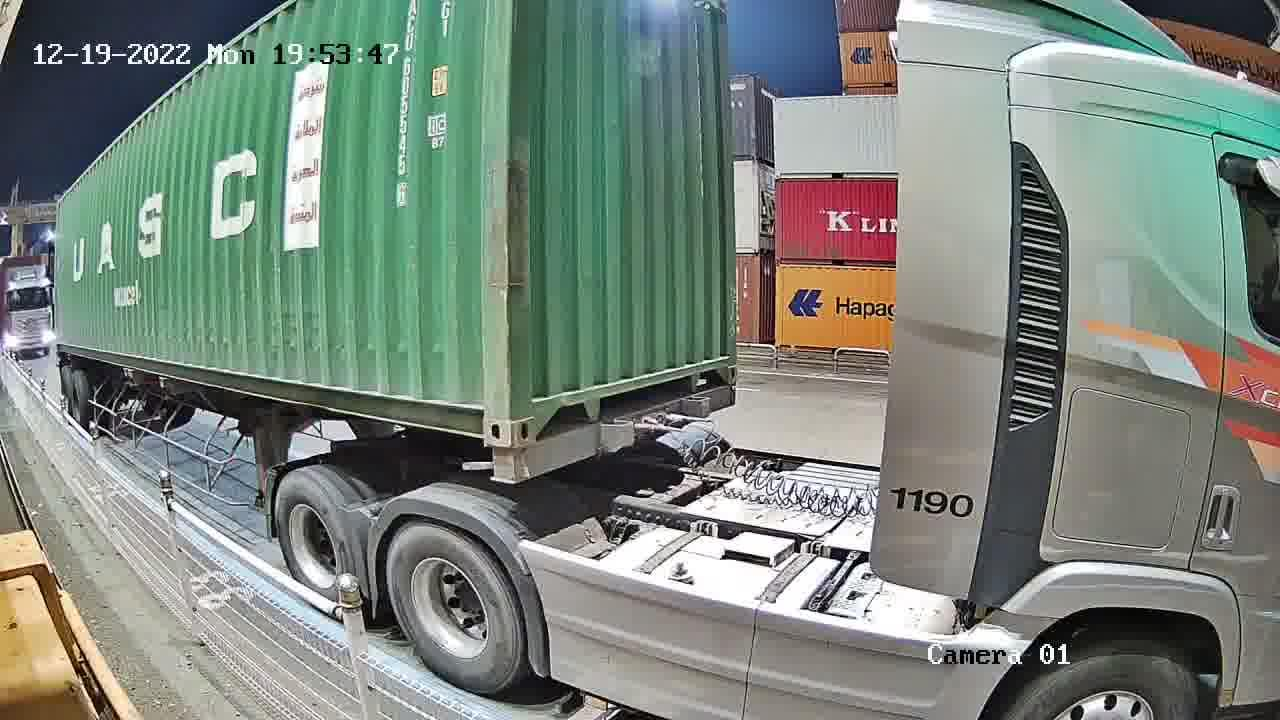Chassis: (488, 384, 736, 484)
Hole_L: (510, 382, 562, 447)
Hole_R: (445, 383, 511, 446), (694, 339, 740, 392)
Tire: (390, 523, 518, 693), (275, 471, 353, 599)
